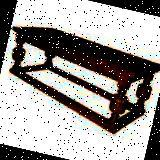Mesa: (0, 19, 159, 140)
